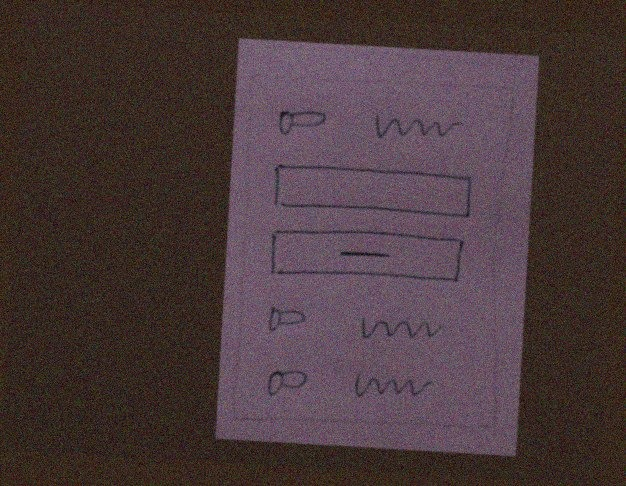button: (261, 222, 469, 292)
switch: (257, 365, 317, 402), (271, 104, 331, 140), (260, 303, 320, 339)
text: (353, 305, 452, 347), (348, 366, 447, 408), (367, 108, 466, 149)
text_input: (266, 160, 478, 228)
